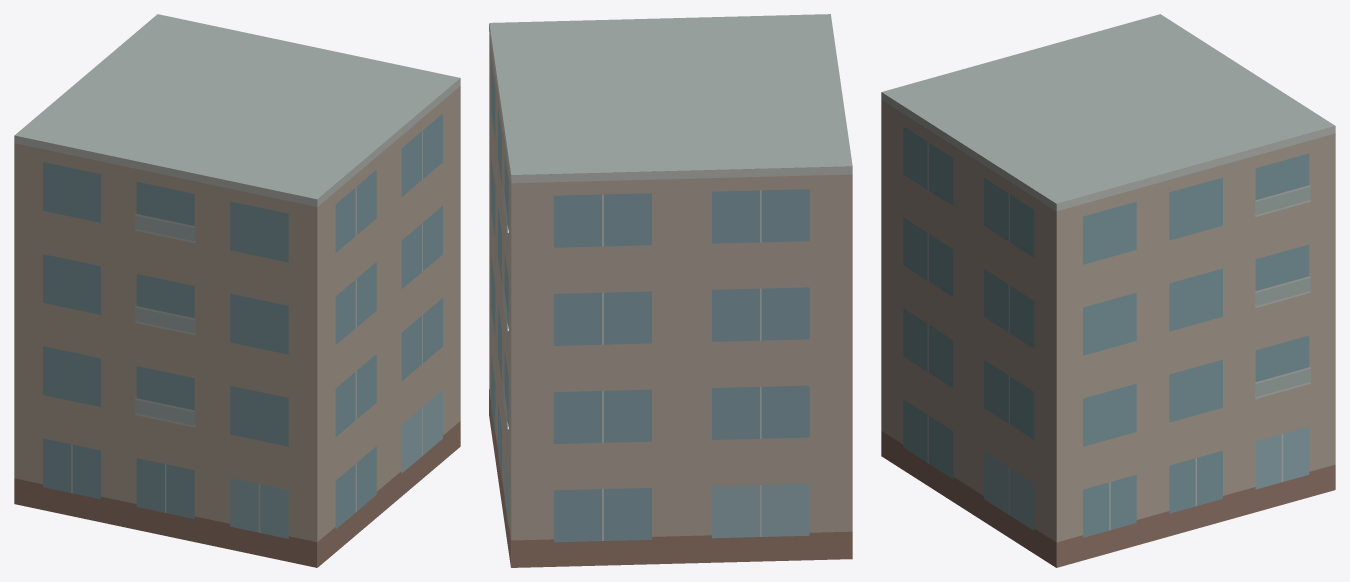
File: residential-96327f5b-27ea-4cb9-a235-941b29b5663d.glb
3 views of the same model, side by side, from view 1: azimuth 30°, elevation 25°; view 2: azimuth 150°, elevation 25°; view 3: azimuth 270°, elevation 25° (orthographic). The views are drawn at different scales.
Visible parts, largest first — view 1: residential-96327f5b-27ea-4cb9-a235-941b29b5663d.tmp; view 2: residential-96327f5b-27ea-4cb9-a235-941b29b5663d.tmp; view 3: residential-96327f5b-27ea-4cb9-a235-941b29b5663d.tmp.
Part boxes in pixels (x1=…): residential-96327f5b-27ea-4cb9-a235-941b29b5663d.tmp: x1=14, y1=14, x2=460, y2=567; residential-96327f5b-27ea-4cb9-a235-941b29b5663d.tmp: x1=489, y1=14, x2=852, y2=567; residential-96327f5b-27ea-4cb9-a235-941b29b5663d.tmp: x1=881, y1=14, x2=1335, y2=567.
Size of the model in its own units: 13.09 by 11.7 by 13.23.
